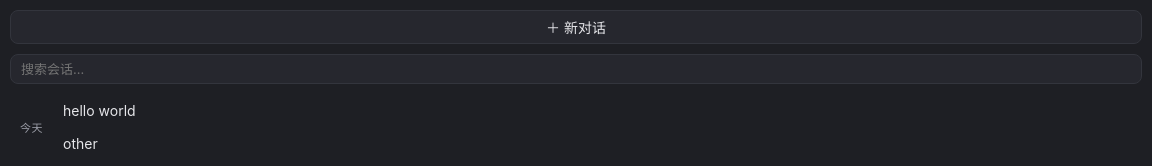
SessionSidebar › 搜索过滤会话
Type "hello" into the search field with test id "session-search" at (576, 69), box [10,54,1142,84]
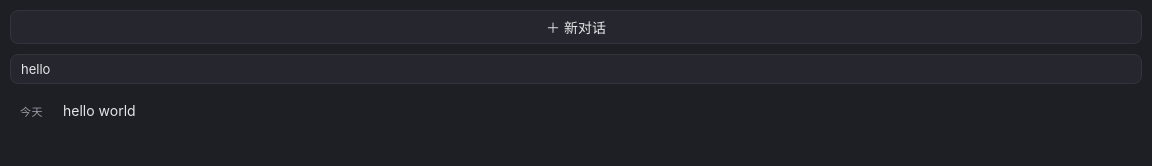
Expected: the text "hello world" is shown, [63,102,136,119]
Expected: the button "other" is gone
